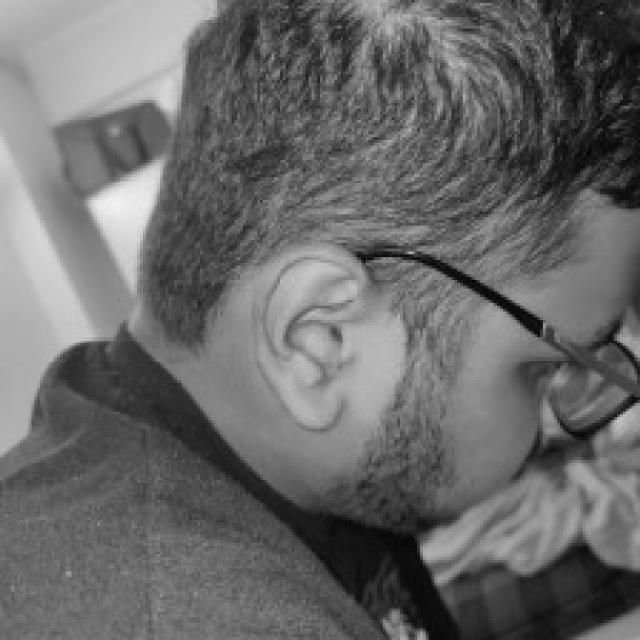ear: (251, 240, 377, 426)
